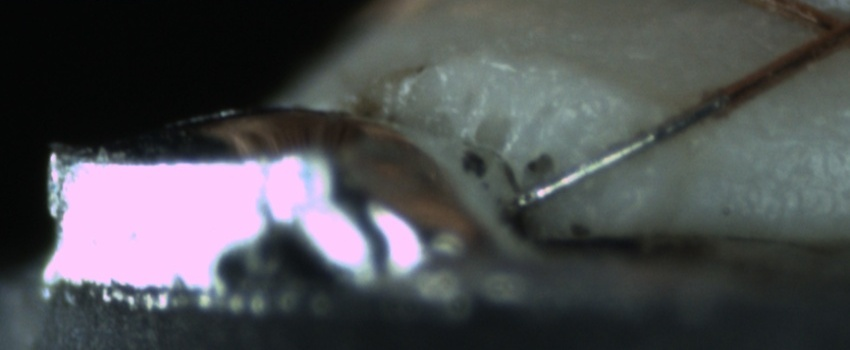CL: (793, 4, 850, 59)
DL: (736, 121, 850, 167)
TS: (516, 97, 719, 209)
